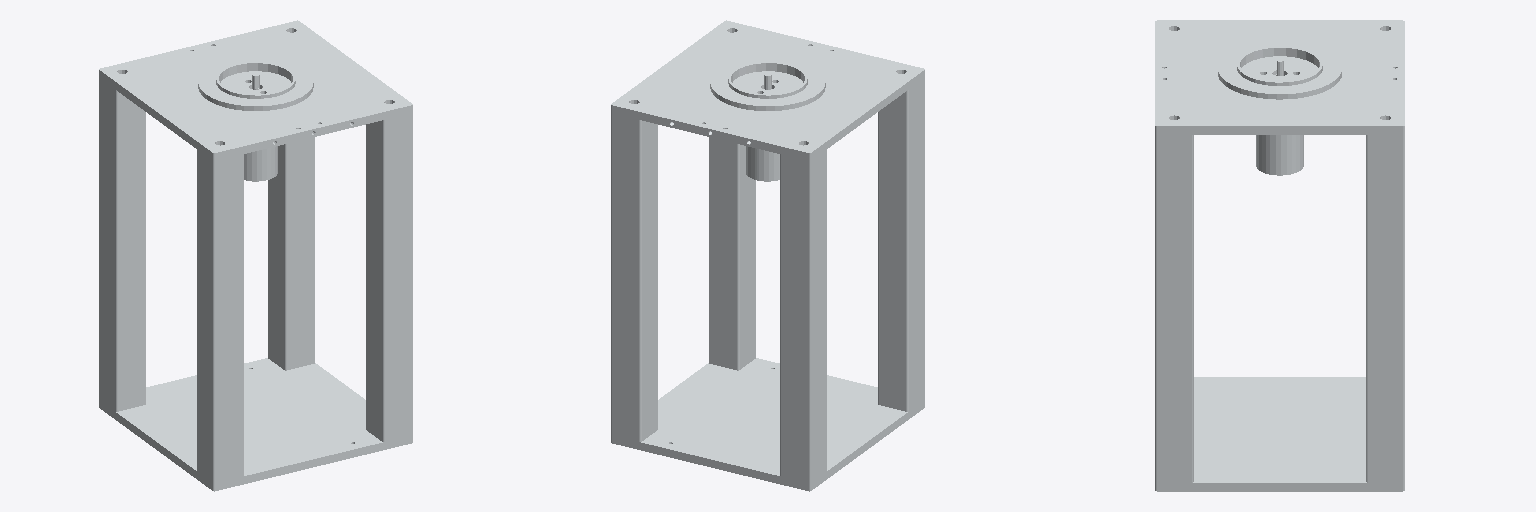
URDF robot description (rlr_urdf):
<?xml version="1.0" encoding="utf-8"?>
<!-- This URDF was automatically created by SolidWorks to URDF Exporter! Originally created by [author] ([email redacted]) 
     Commit Version: 1.6.0-4-g7f85cfe  Build Version: 1.6.7995.38578
     For more information, please see http://wiki.ros.org/sw_urdf_exporter -->
<robot
  name="rlr_urdf">
  <link name="world"/>
  <joint name="base_joint" type="fixed">
    <parent link="world"/>
    <child link="base_link"/>
    <origin rpy="0 0 0" xyz="0.0 0.0 0.0"/>
  </joint>
  
  <link
    name="base_link">
    <inertial>
      <origin
        xyz="-1.2854E-06 0.1135 -8.347E-08"
        rpy="0 0 0" />
      <mass
        value="1.1686" />
      <inertia
        ixx="0.0030181"
        ixy="-7.6146E-21"
        ixz="1.0935E-20"
        iyy="0.00034337"
        iyz="3.1715E-09"
        izz="0.0030183" />
    </inertial>
    <visual>
      <origin
        xyz="0 0 0"
        rpy="0 0 0" />
      <geometry>
        <mesh
          filename="package://urdf and meshes/without weight/meshes/base_link.STL" />
      </geometry>
      <material
        name="">
        <color
          rgba="0.89804 0.91765 0.92941 1" />
      </material>
    </visual>
    <collision>
      <origin
        xyz="0 0 0"
        rpy="0 0 0" />
      <geometry>
        <mesh
          filename="package://urdf and meshes/without weight/meshes/base_link.STL" />
      </geometry>
    </collision>
  </link>
  <link
    name="link1">
    <inertial>
      <origin
        xyz="-0.0050566 0.020502 9.4512E-12"
        rpy="0 0 0" />
      <mass
        value="0.27518" />
      <inertia
        ixx="8.1044E-05"
        ixy="-9.6978E-07"
        ixz="-7.1922E-15"
        iyy="7.1666E-05"
        iyz="-1.1662E-14"
        izz="4.1838E-05" />
    </inertial>
    <visual>
      <origin
        xyz="0 0 0"
        rpy="0 0 0" />
      <geometry>
        <mesh
          filename="package://urdf and meshes/without weight/meshes/link1.STL" />
      </geometry>
      <material
        name="">
        <color
          rgba="1 1 1 1" />
      </material>
    </visual>
    <collision>
      <origin
        xyz="0 0 0"
        rpy="0 0 0" />
      <geometry>
        <mesh
          filename="package://urdf and meshes/without weight/meshes/link1.STL" />
      </geometry>
    </collision>
  </link>
  <joint
    name="joint1"
    type="revolute">
    <origin
      xyz="0 0 0.213"
      rpy="1.5708 0 1.5708" />
    <parent
      link="base_link" />
    <child
      link="link1" />
    <axis
      xyz="0 1 0" >
    </axis>
    <limit
      lower="-4.71"
      upper="4.71"
      effort="0.07"
      velocity="46" />
    <dynamics damping="0.0"
            friction="0.001"/>
  </joint>
  <link
    name="link2">
    <inertial>
      <origin
        xyz="3.7251E-06 -0.04004 -0.07654"
        rpy="0 0 0" />
      <mass
        value="0.064915" />
      <inertia
        ixx="0.00010421"
        ixy="-3.0229E-09"
        ixz="-1.9355E-12"
        iyy="4.4236E-05"
        iyz="1.418E-14"
        izz="6.0908E-05" />
    </inertial>
    <visual>
      <origin
        xyz="0 0 0"
        rpy="0 0 0" />
      <geometry>
        <mesh
          filename="package://urdf and meshes/without weight/meshes/link2.STL" />
      </geometry>
      <material
        name="">
        <color
          rgba="0.89804 0.91765 0.92941 1" />
      </material>
    </visual>
    <collision>
      <origin
        xyz="0 0 0"
        rpy="0 0 0" />
      <geometry>
        <mesh
          filename="package://urdf and meshes/without weight/meshes/link2.STL" />
      </geometry>
    </collision>
  </link>
  <joint
    name="joint2"
    type="continuous">
    <origin
      xyz="0 0.025 0"
      rpy="0 1.5708 0" />
    <parent
      link="link1" />
    <child
      link="link2" />
    <axis
      xyz="0 0 1">
    </axis>
    <dynamics damping="0.0"
              friction="0.001"/>
  </joint>
</robot>

--- Facts derived from the render (not from the file) ---
The picture shows the robot from 3 angles, left to right: view 1: azimuth 30°, elevation 25°; view 2: azimuth 150°, elevation 25°; view 3: azimuth 270°, elevation 25°; orthographic projection.
Model rlr_urdf with 4 links and 3 joints (1 revolute, 1 continuous, 1 fixed), rooted at world, posed all joints at 0.
Links seen in each view (by area): view 1: base_link; view 2: base_link; view 3: base_link.
Link boxes in pixels (<box>): base_link: <box>99,20,412,491</box>; base_link: <box>611,20,924,491</box>; base_link: <box>1155,20,1404,491</box>.
Size in the robot's own frame: 0.13 by 0.13 by 0.2175 metres.
Meshes: 3 distinct files referenced, 1 mesh visuals loaded (1 binary STL); not drawn: 2 (reference not matched to a file when rendering).